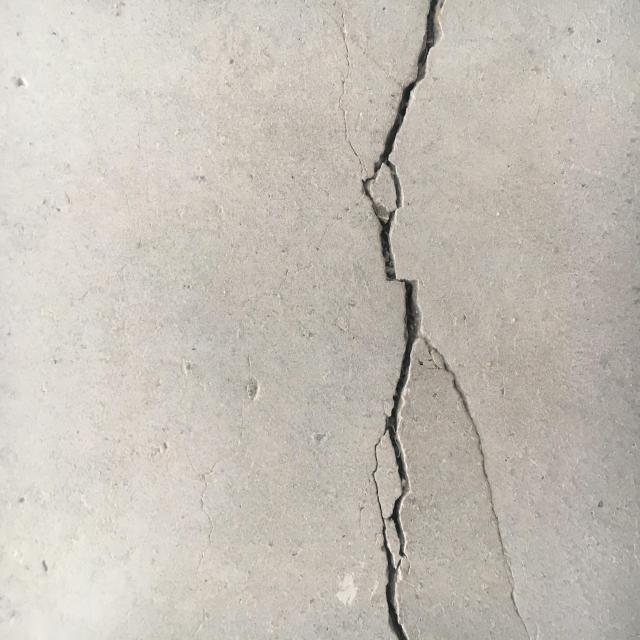Rachadura: (359, 0, 533, 640)
